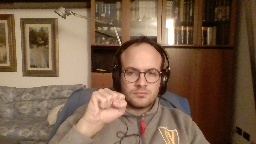Pugno: (85, 86, 127, 126)
